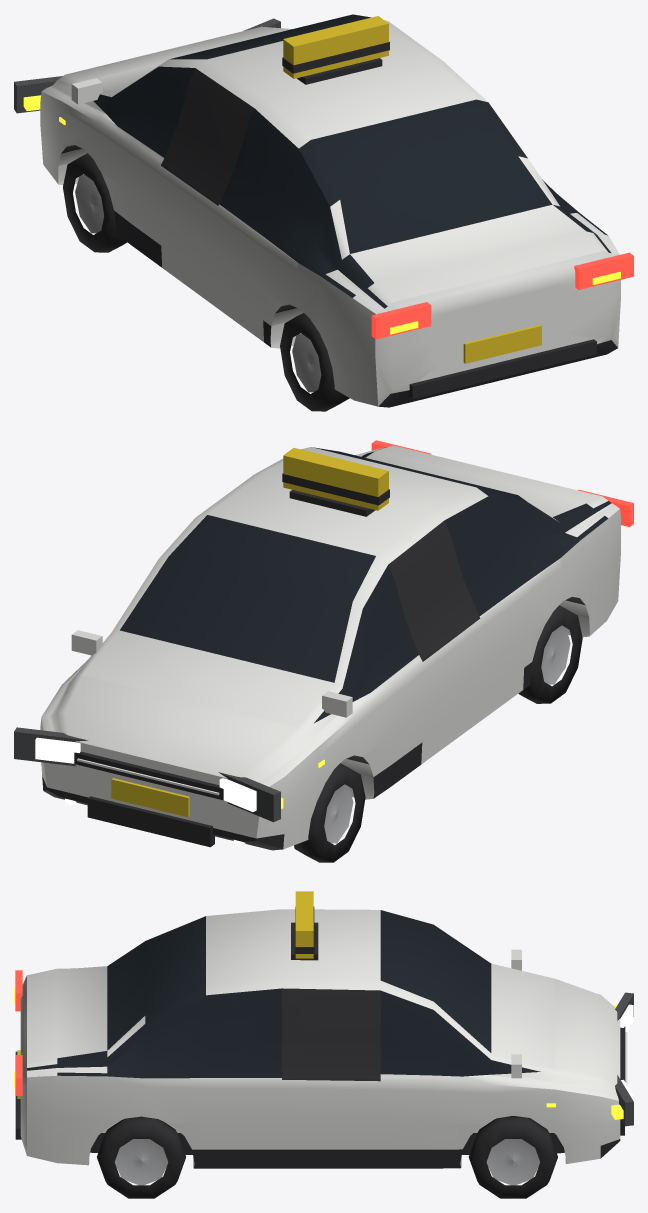
Rendered from taxi_lod1.glb.
The picture shows the model from 3 angles, top to bottom: view 1: azimuth 30°, elevation 25°; view 2: azimuth 150°, elevation 25°; view 3: azimuth 270°, elevation 25°; orthographic projection. The views are drawn at different scales.
Parts seen in each view (by area): view 1: body, wheel_rl, wheel_fl; view 2: body, wheel_fl, wheel_rl; view 3: body, wheel_fr, wheel_rr.
Part boxes in pixels (box(x1,y1,x2,y2)): body: box(14, 14, 633, 407); wheel_rl: box(280, 313, 349, 411); wheel_fl: box(63, 153, 127, 252); body: box(14, 440, 633, 850); wheel_fl: box(294, 763, 365, 862); wheel_rl: box(518, 605, 582, 703); body: box(14, 891, 633, 1168); wheel_fr: box(468, 1116, 557, 1198); wheel_rr: box(97, 1116, 185, 1198).
Bounding box in the file's own units: 1.79 × 1.72 × 4.08.
Materials: 2 (1 with a texture image).
